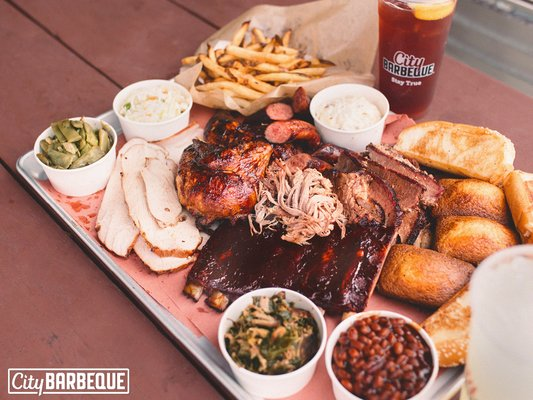pizza: (113, 79, 193, 143)
sushi: (217, 287, 328, 399), (324, 310, 446, 400), (34, 116, 117, 197), (309, 83, 389, 153), (113, 79, 193, 143)
